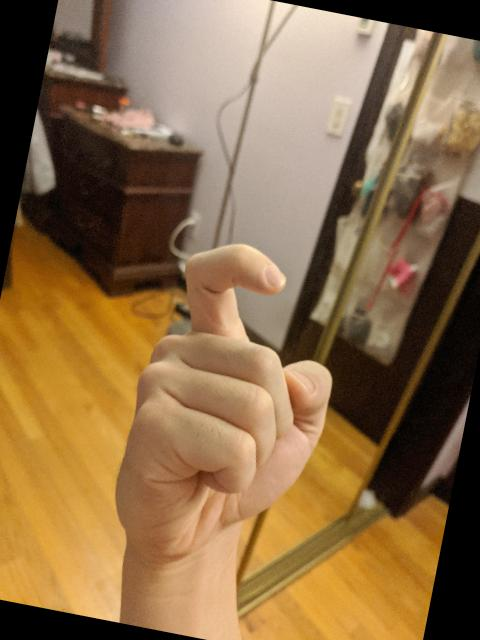X: (103, 224, 364, 574)
